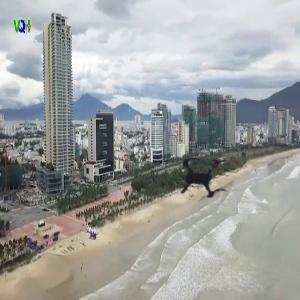drone: (146, 125, 258, 237)
